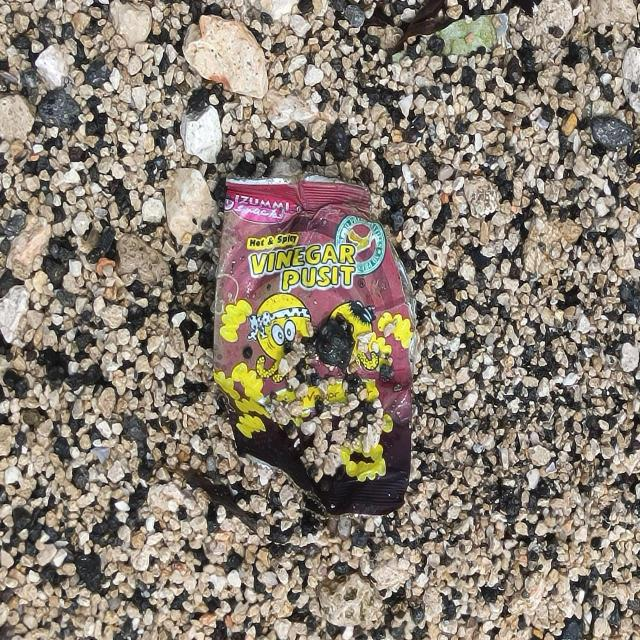plastic_waste: (212, 174, 423, 518)
